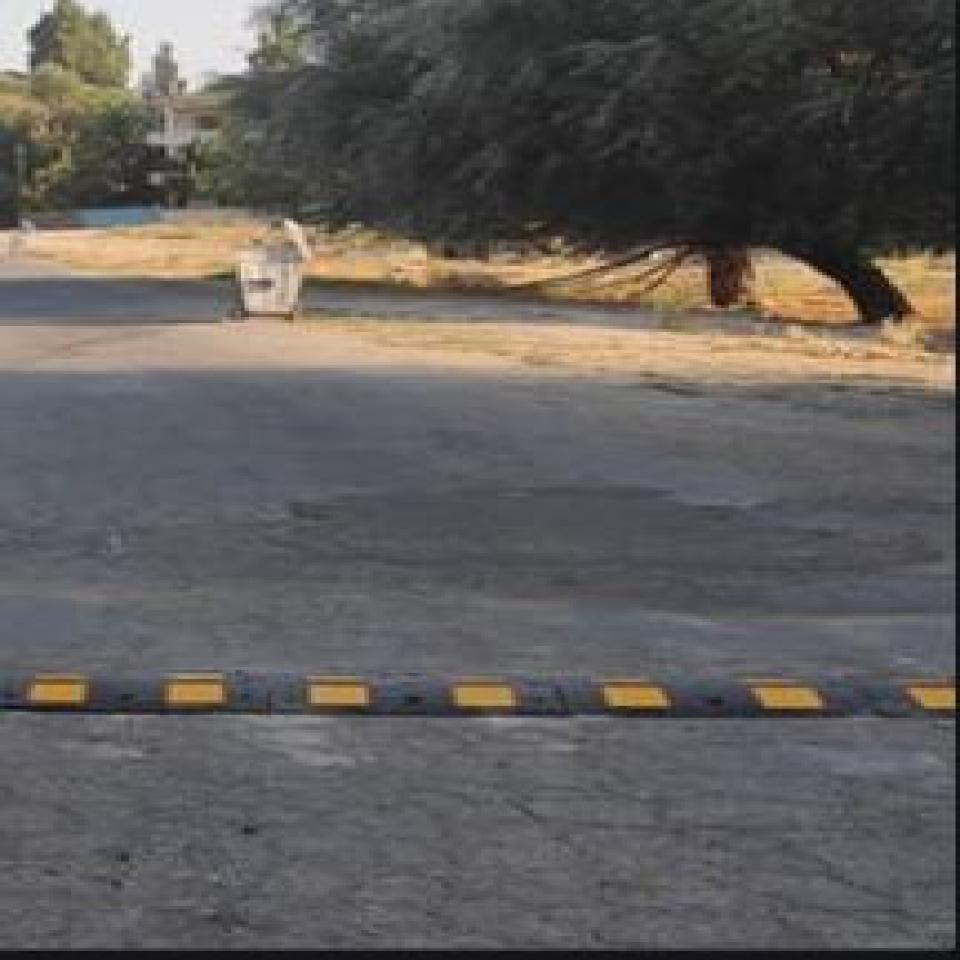speedbreaker: (0, 643, 956, 721)
